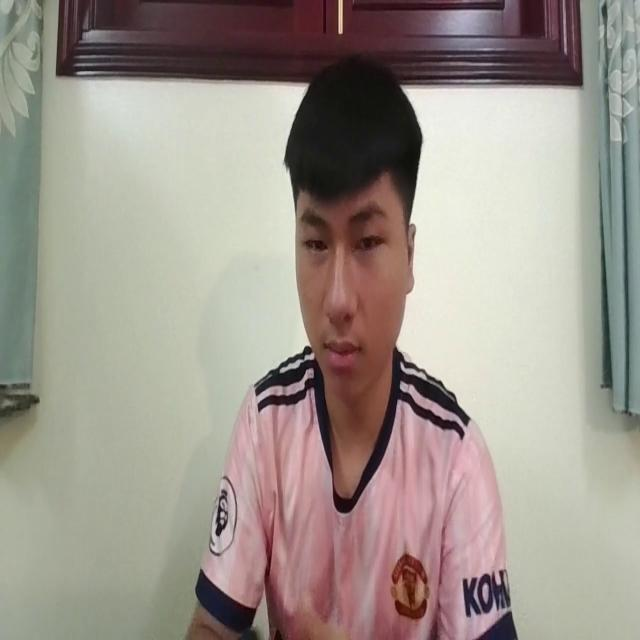student: (201, 49, 515, 640)
